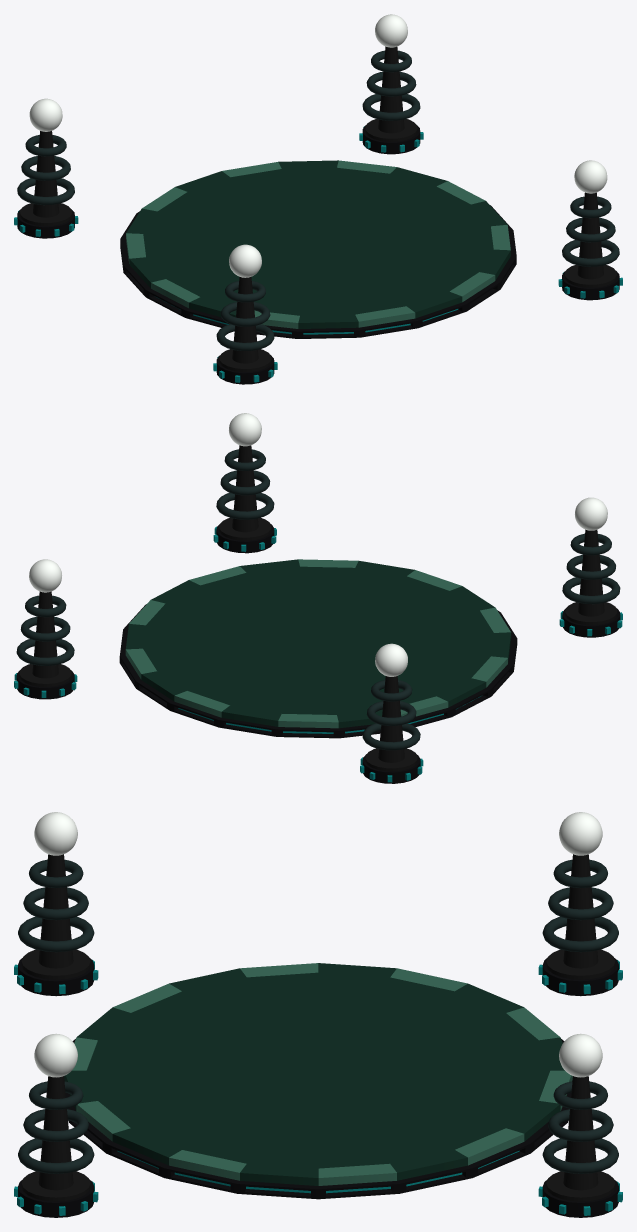
Rendered from charging-station.obj.
The picture shows the model from 3 angles, top to bottom: view 1: azimuth 30°, elevation 25°; view 2: azimuth 150°, elevation 25°; view 3: azimuth 270°, elevation 25°; orthographic projection. The views are drawn at different scales.
Size of the model in its own units: 27.85 by 8.38 by 27.85.
